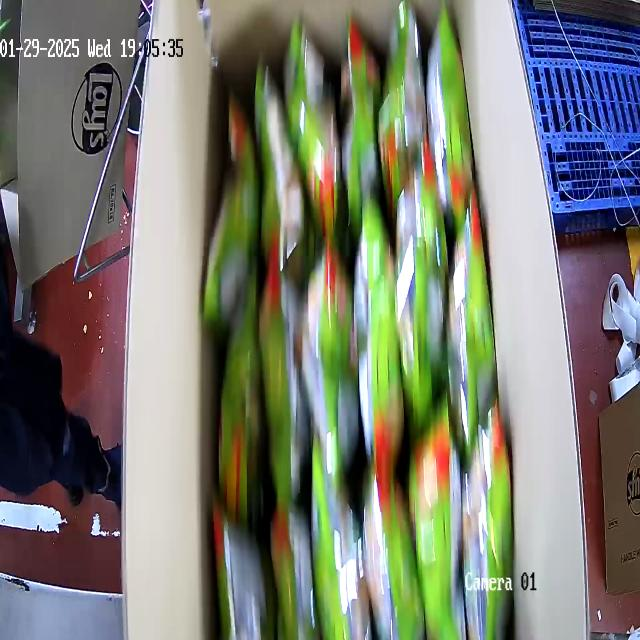YOGURT_HERB: (201, 1, 515, 637)
